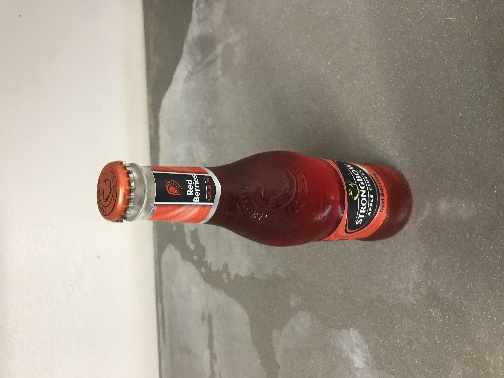SRB: (68, 114, 171, 164), (220, 114, 283, 175)
